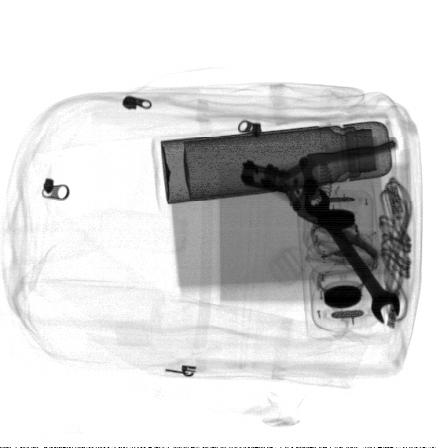Pliers: (240, 135, 398, 262)
Wrench: (304, 185, 400, 326)
